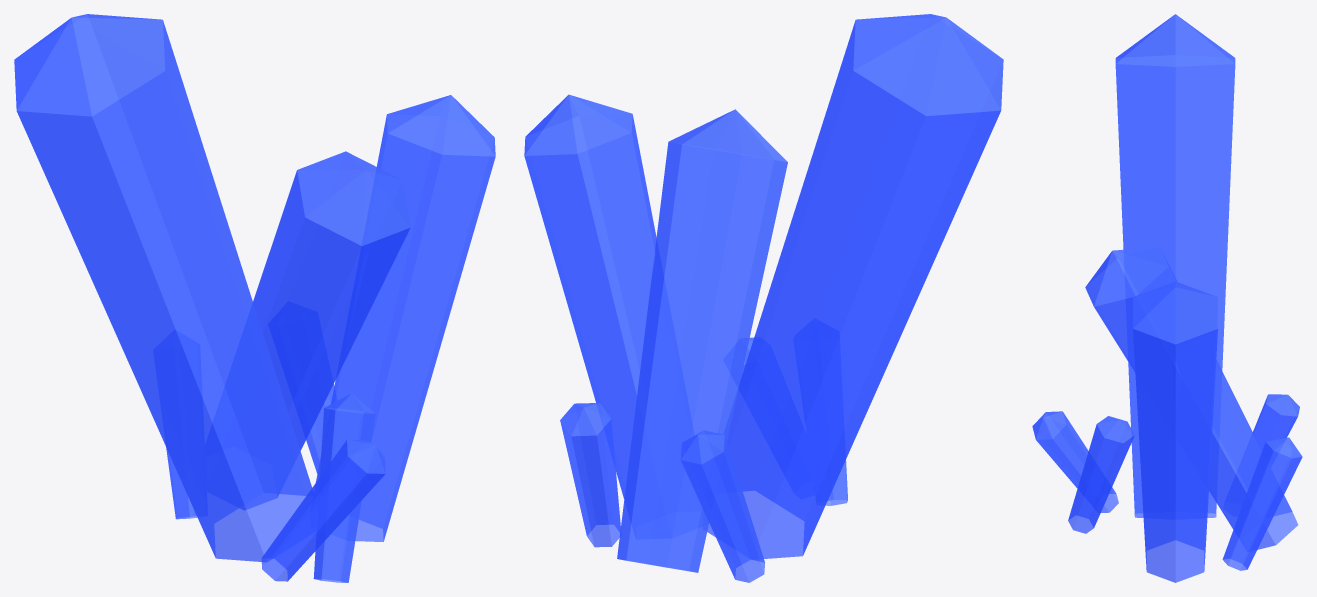
File: EV_Crystal_SM_03.FBX
3 views of the same model, side by side, from view 1: azimuth 30°, elevation 25°; view 2: azimuth 150°, elevation 25°; view 3: azimuth 270°, elevation 25° (orthographic). The views are drawn at different scales.
Visible parts, largest first — view 1: EV_Cyrstal_SM_03; view 2: EV_Cyrstal_SM_03; view 3: EV_Cyrstal_SM_03.
Boxes of the visible parts, bbox=[...] form: EV_Cyrstal_SM_03: bbox=[14, 14, 495, 582]; EV_Cyrstal_SM_03: bbox=[524, 14, 1003, 582]; EV_Cyrstal_SM_03: bbox=[1032, 14, 1302, 582].
Bounding box in the file's own units: 29.56 × 34.71 × 18.81.
